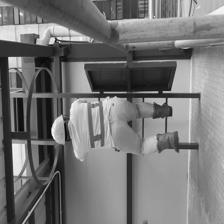Feet: (151, 121, 182, 163), (146, 94, 177, 116)
Hand: (69, 96, 94, 109)
Ladder: (7, 85, 198, 154)
